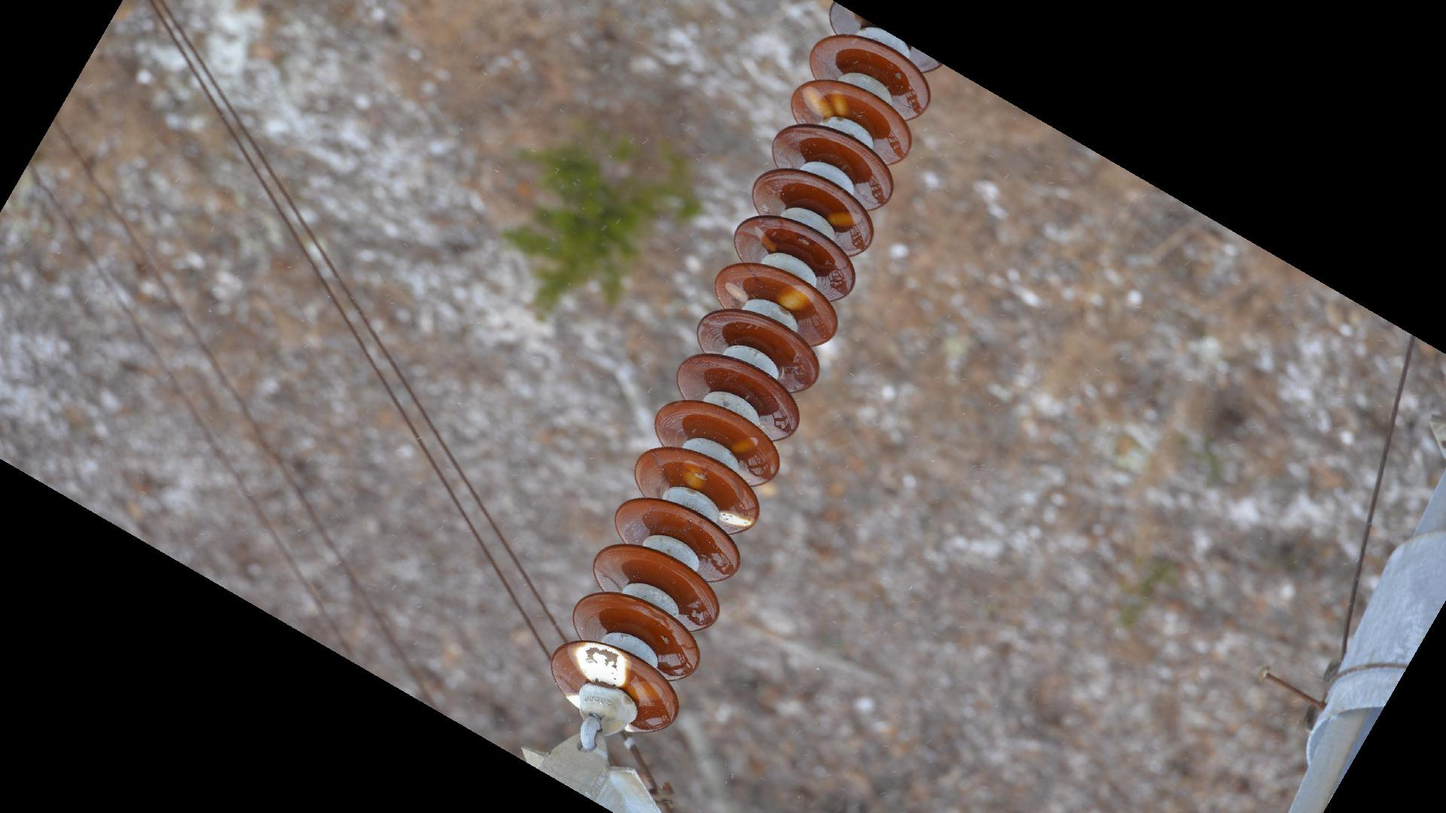insulator: (545, 1, 947, 739)
insulator_flashover: (567, 640, 630, 690), (799, 84, 850, 120), (776, 282, 816, 312), (678, 458, 708, 494), (716, 508, 756, 530), (627, 679, 665, 702), (721, 279, 750, 304), (828, 209, 864, 229), (729, 434, 760, 455)
